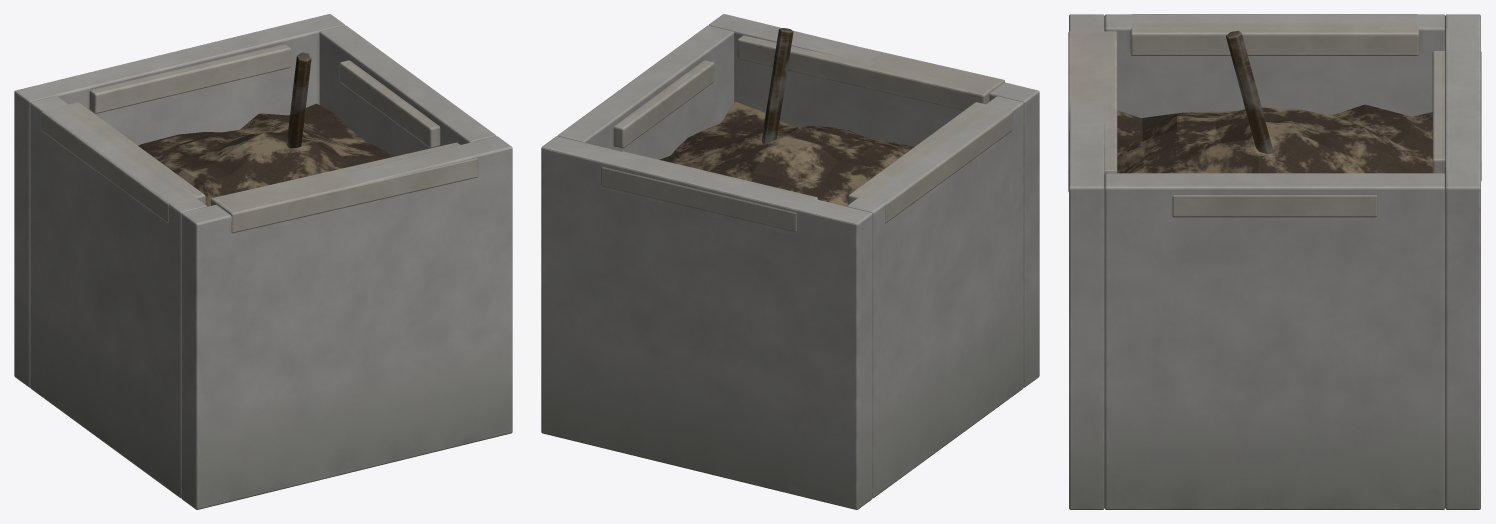
Rendered from planter_conc.glb.
3 renders of one model, left to right at view 1: azimuth 30°, elevation 25°; view 2: azimuth 150°, elevation 25°; view 3: azimuth 270°, elevation 25°, orthographic. The views are drawn at different scales.
Visible parts, largest first — view 1: planter_conc_WearBedConcretePlt, planter_conc_WearBedSoilPlt, planter_conc_WearBedTimberPlt; view 2: planter_conc_WearBedConcretePlt, planter_conc_WearBedSoilPlt, planter_conc_WearBedTimberPlt; view 3: planter_conc_WearBedConcretePlt, planter_conc_WearBedSoilPlt, planter_conc_WearBedTimberPlt.
Part boxes in pixels (x1=…): planter_conc_WearBedConcretePlt: x1=14, y1=14, x2=512, y2=509; planter_conc_WearBedSoilPlt: x1=138, y1=103, x2=391, y2=206; planter_conc_WearBedTimberPlt: x1=286, y1=52, x2=311, y2=148; planter_conc_WearBedConcretePlt: x1=541, y1=14, x2=1039, y2=509; planter_conc_WearBedSoilPlt: x1=659, y1=101, x2=914, y2=206; planter_conc_WearBedTimberPlt: x1=761, y1=28, x2=793, y2=143; planter_conc_WearBedConcretePlt: x1=1068, y1=14, x2=1481, y2=509; planter_conc_WearBedSoilPlt: x1=1117, y1=104, x2=1432, y2=173; planter_conc_WearBedTimberPlt: x1=1226, y1=30, x2=1273, y2=154.
Bounding box in the file's own units: 0.5222 × 0.562 × 0.522.
3 materials, 3 textured.
